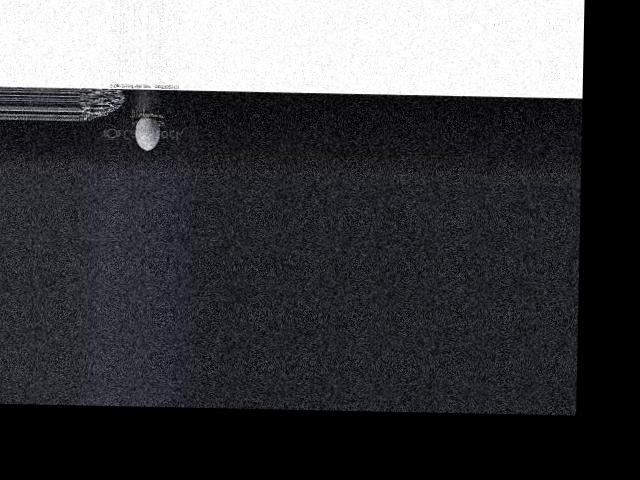egg: (135, 116, 160, 150)
